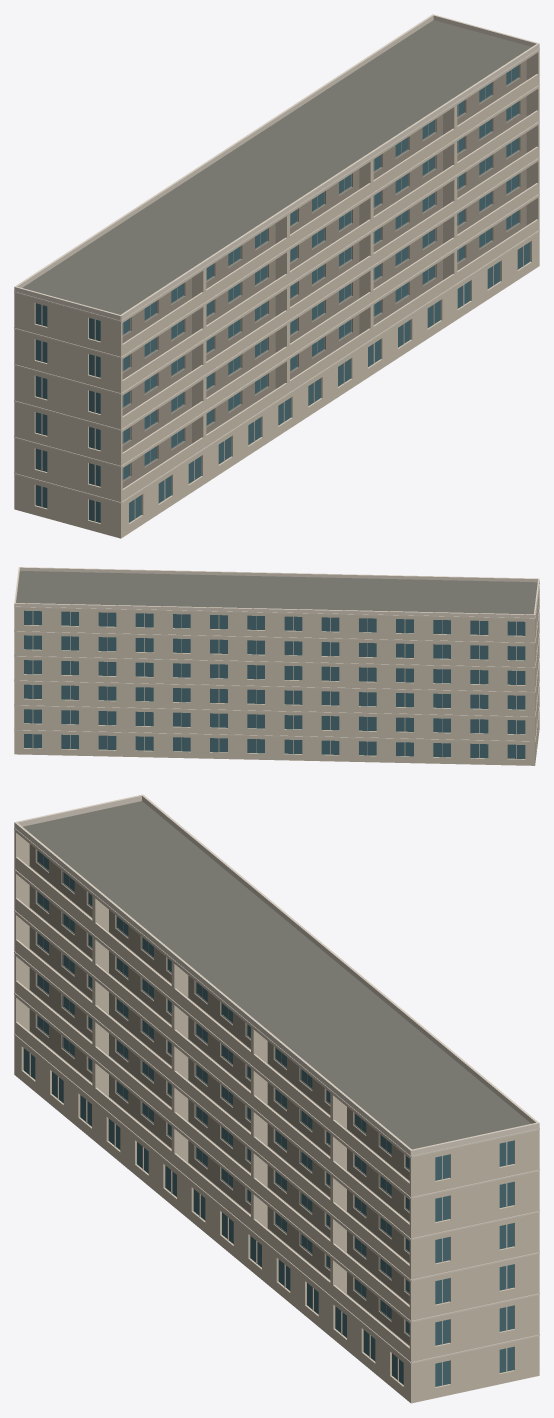
The model's file is chunk-dorm-way-1474800690.glb.
3 views of the same model, one above another, from view 1: azimuth 30°, elevation 25°; view 2: azimuth 150°, elevation 25°; view 3: azimuth 270°, elevation 25° (orthographic). The views are drawn at different scales.
Parts seen in each view (by area): view 1: chunk-dorm-way-1474800690; view 2: chunk-dorm-way-1474800690; view 3: chunk-dorm-way-1474800690.
Boxes of the visible parts, x1,y1,x2,y2 form: chunk-dorm-way-1474800690: [14, 14, 539, 538]; chunk-dorm-way-1474800690: [14, 567, 539, 765]; chunk-dorm-way-1474800690: [14, 794, 539, 1403].
Size of the model in its own units: 61.23 by 20.22 by 38.15.
